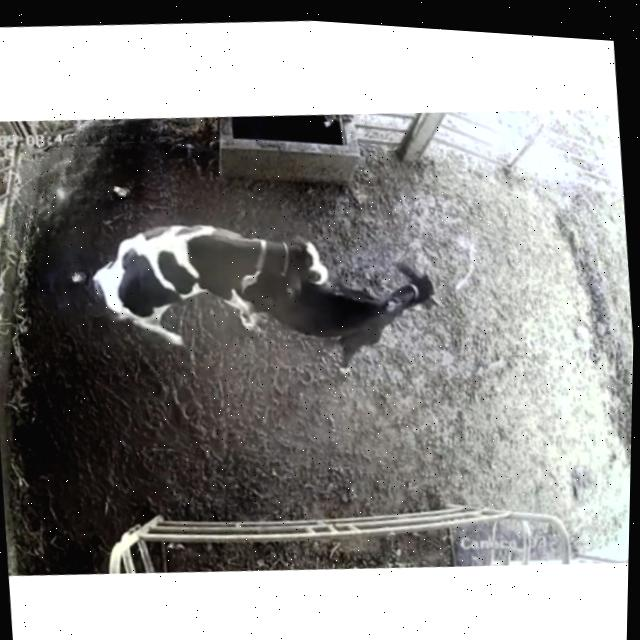ride: (64, 194, 345, 389)
